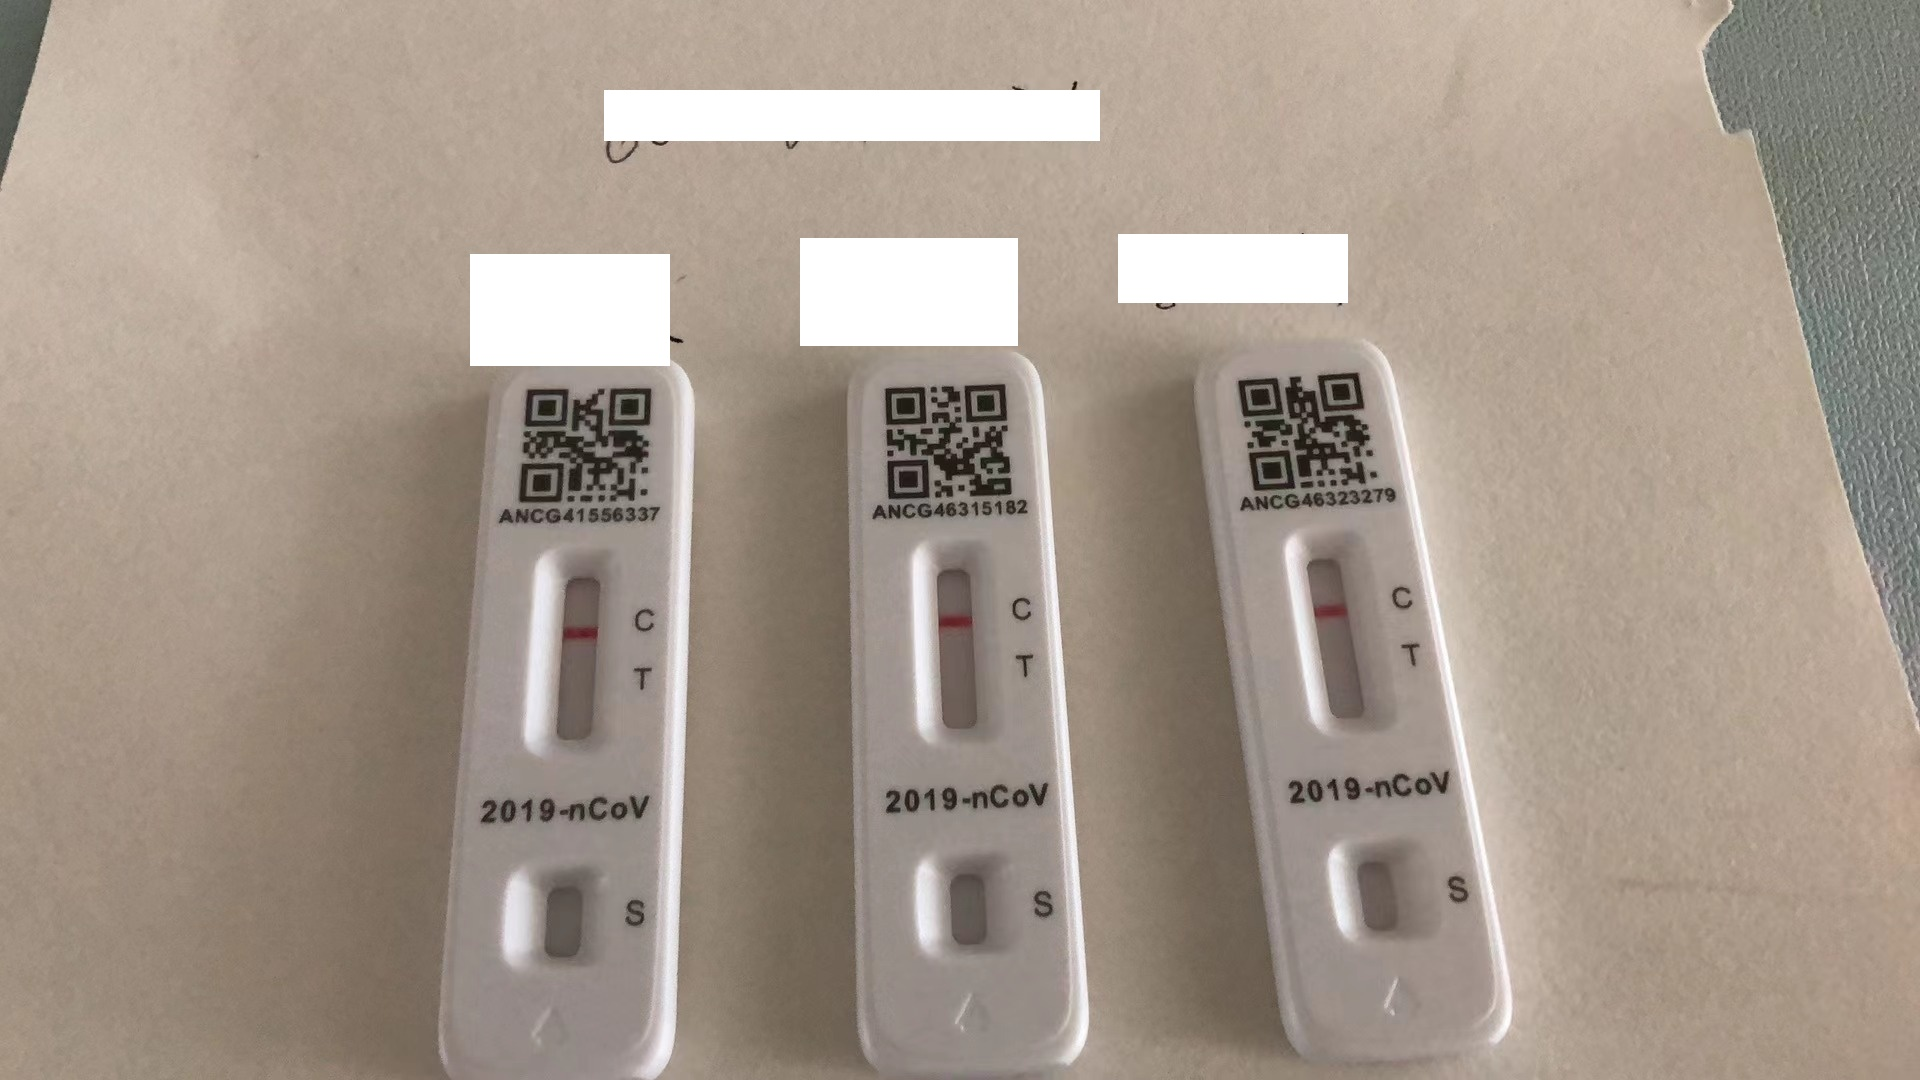negative: (1284, 531, 1389, 737), (913, 535, 1000, 740), (531, 543, 612, 754)
